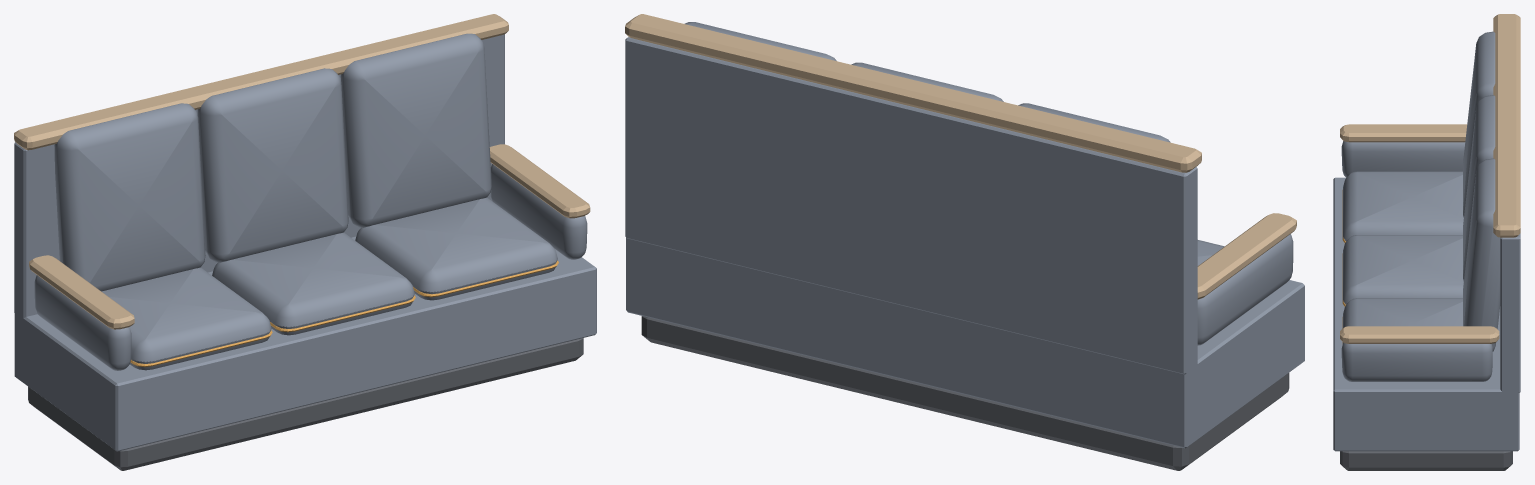
File: office-lobby-and-facilities-visitor-sofa-three-seat-0919a142.glb
The picture shows the model from 3 angles, left to right: view 1: azimuth 30°, elevation 25°; view 2: azimuth 150°, elevation 25°; view 3: azimuth 270°, elevation 25°; orthographic projection. The views are drawn at different scales.
Parts seen in each view (by area): view 1: visitor-sofa-three-seat; view 2: visitor-sofa-three-seat; view 3: visitor-sofa-three-seat.
Part boxes in pixels (x1=…): visitor-sofa-three-seat: x1=14, y1=14, x2=596, y2=470; visitor-sofa-three-seat: x1=625, y1=14, x2=1304, y2=470; visitor-sofa-three-seat: x1=1333, y1=14, x2=1520, y2=470.
Size of the model in its own units: 2.24 by 1.22 by 0.825.
